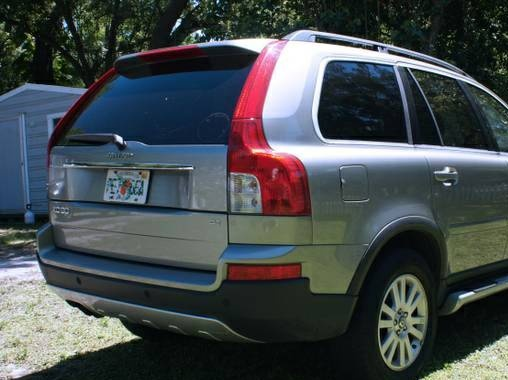volvo: (15, 29, 508, 379)
